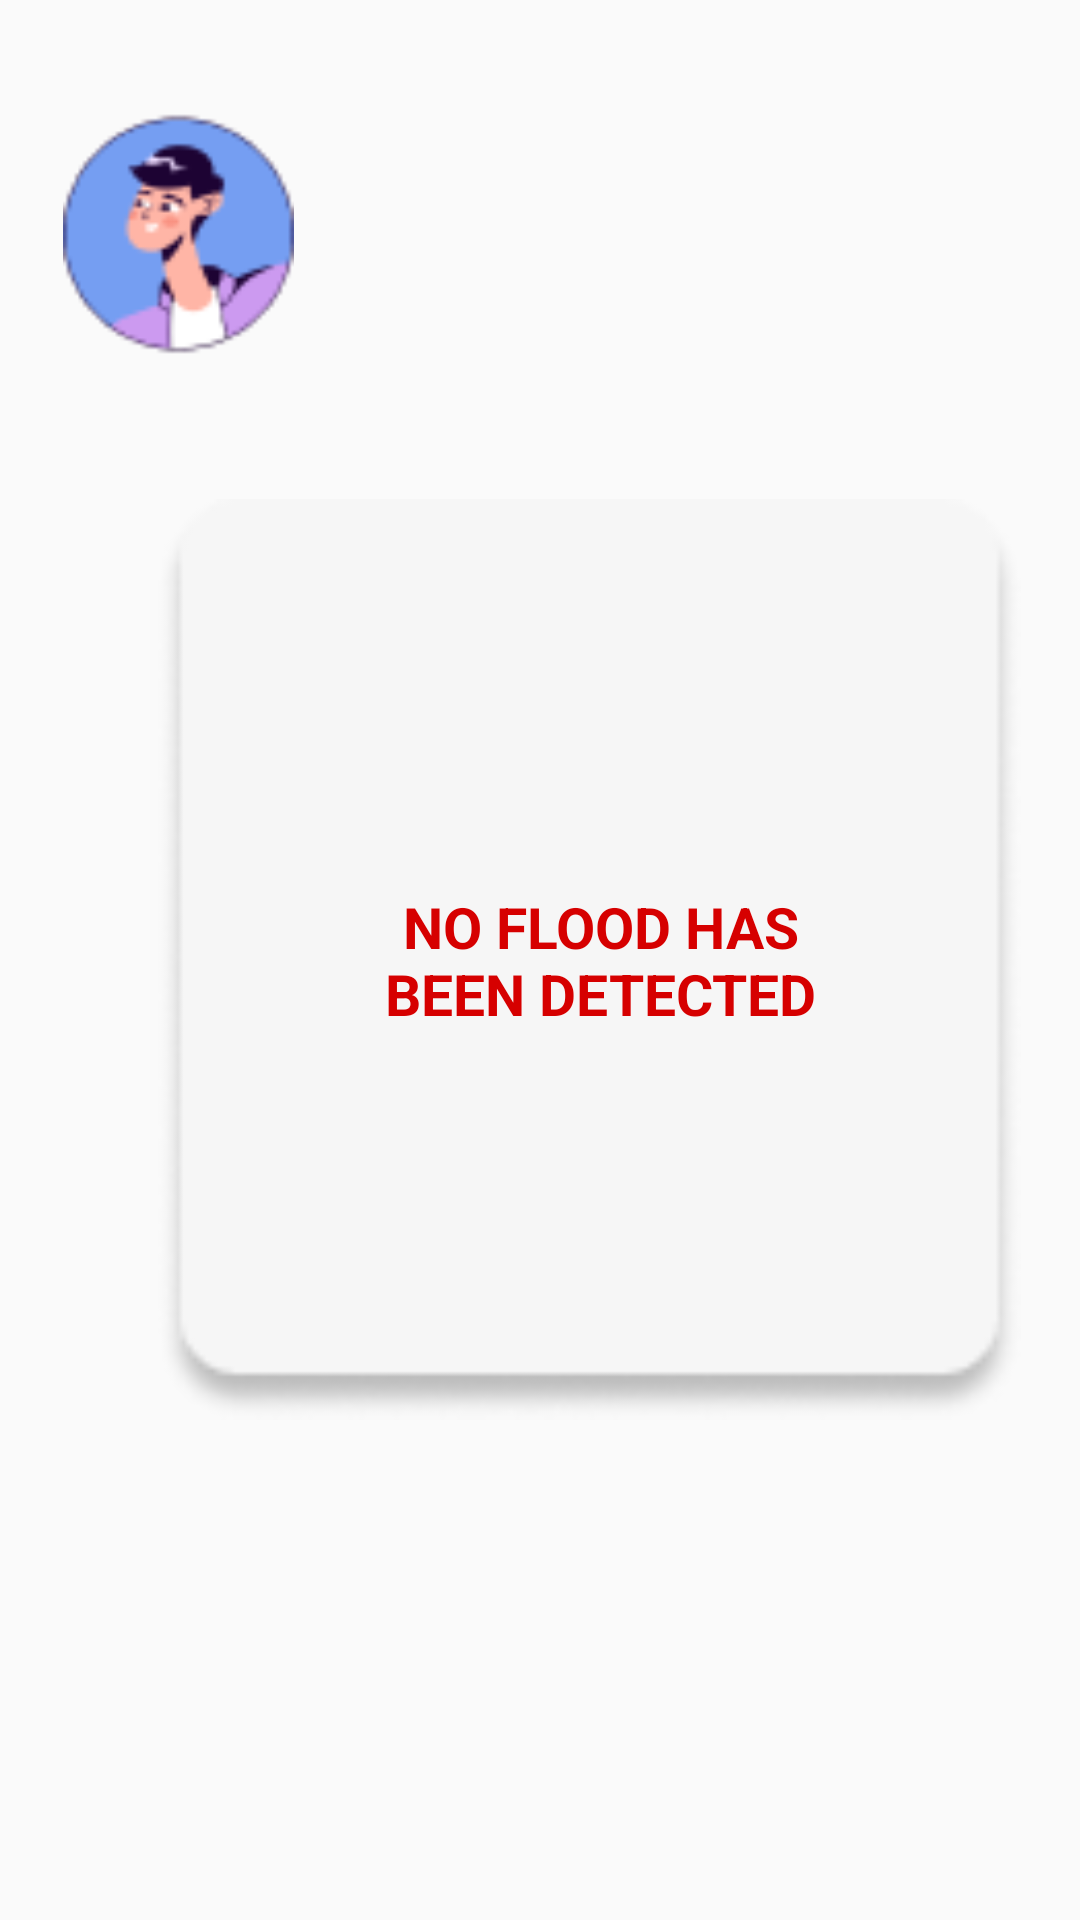

Icons on this 1080 x 1920 Android screen, each with the point to tap as point (x, y):
pf: point (178, 234)
